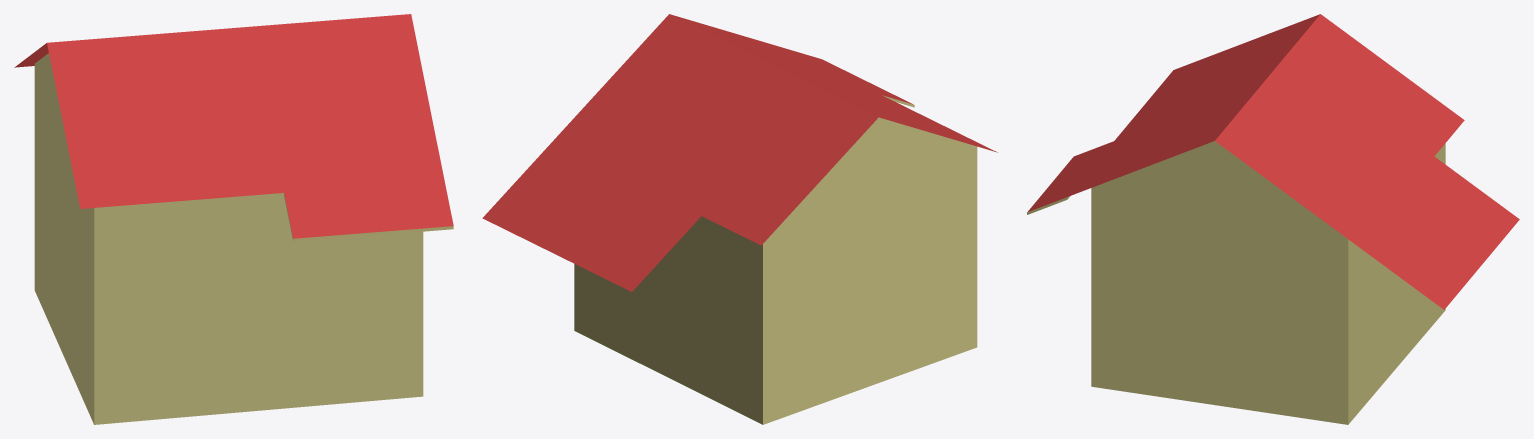
3 renders of one model, left to right at view 1: azimuth 30°, elevation 25°; view 2: azimuth 150°, elevation 25°; view 3: azimuth 270°, elevation 25°, orthographic. The views are drawn at different scales.
Size of the model in its own units: 14.47 by 16.47 by 9.99.
